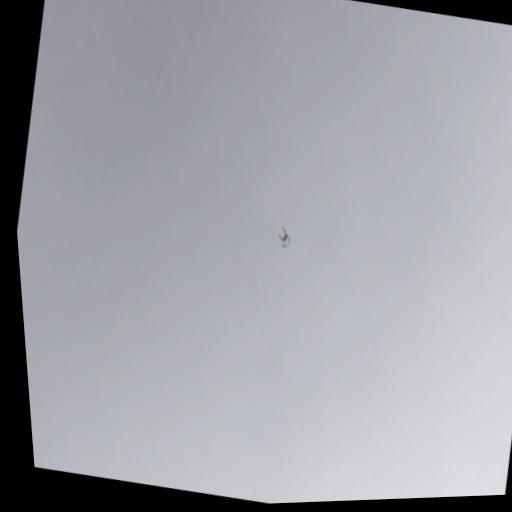drones: (274, 223, 294, 250)
